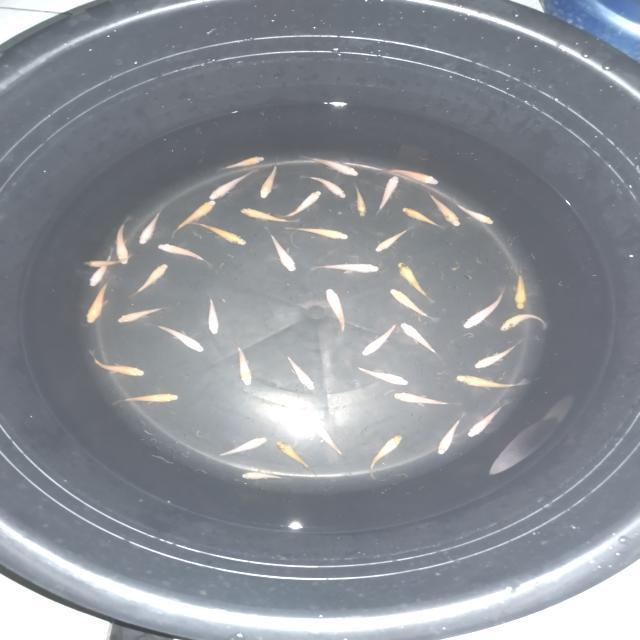nila: (462, 282, 507, 336), (170, 198, 220, 238), (364, 432, 405, 480), (388, 284, 438, 322), (145, 323, 206, 354), (191, 219, 249, 250), (468, 400, 508, 444), (398, 320, 442, 360), (80, 278, 115, 328), (88, 350, 148, 379), (393, 258, 436, 297), (471, 338, 520, 372), (263, 228, 298, 275), (302, 152, 361, 179), (152, 240, 212, 266), (452, 373, 532, 392), (496, 310, 554, 336), (376, 167, 444, 189), (131, 261, 173, 296), (284, 352, 318, 395), (354, 363, 414, 387), (217, 432, 270, 459), (114, 302, 169, 328), (206, 171, 252, 202), (357, 322, 397, 357), (434, 412, 464, 458), (231, 339, 259, 388), (453, 197, 497, 228), (134, 206, 168, 246), (322, 286, 348, 338), (308, 421, 343, 458), (274, 438, 314, 470), (103, 392, 182, 408), (76, 251, 112, 286), (284, 188, 322, 220), (398, 206, 444, 232), (430, 195, 462, 232), (306, 173, 347, 200), (218, 150, 268, 172), (292, 224, 352, 242), (238, 207, 296, 225), (374, 177, 400, 217), (387, 392, 451, 408), (309, 262, 382, 276), (372, 228, 408, 254), (78, 252, 132, 269), (113, 218, 130, 268), (204, 294, 222, 338), (511, 266, 528, 310), (352, 183, 369, 222), (234, 470, 286, 480)
